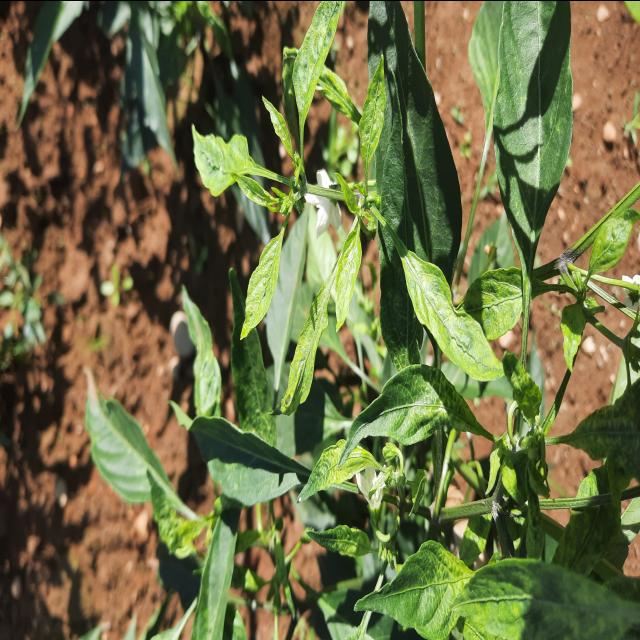thrips: (405, 244, 504, 406), (352, 524, 477, 632), (286, 438, 376, 512)
